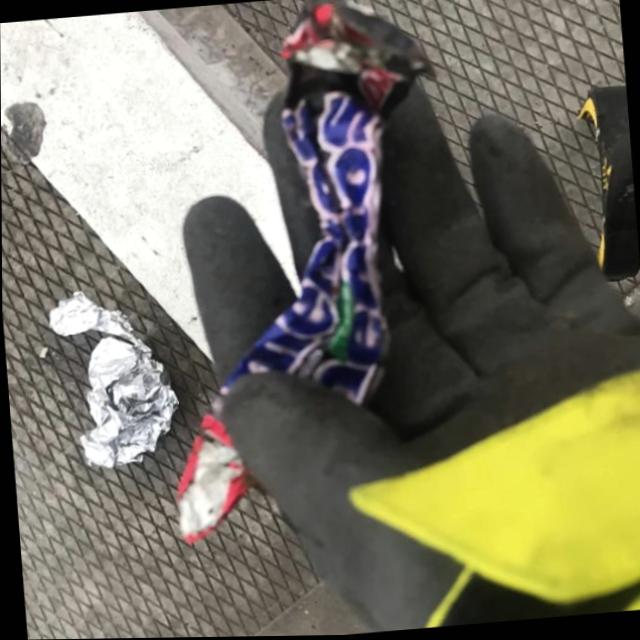Plastic: (130, 0, 473, 551)
